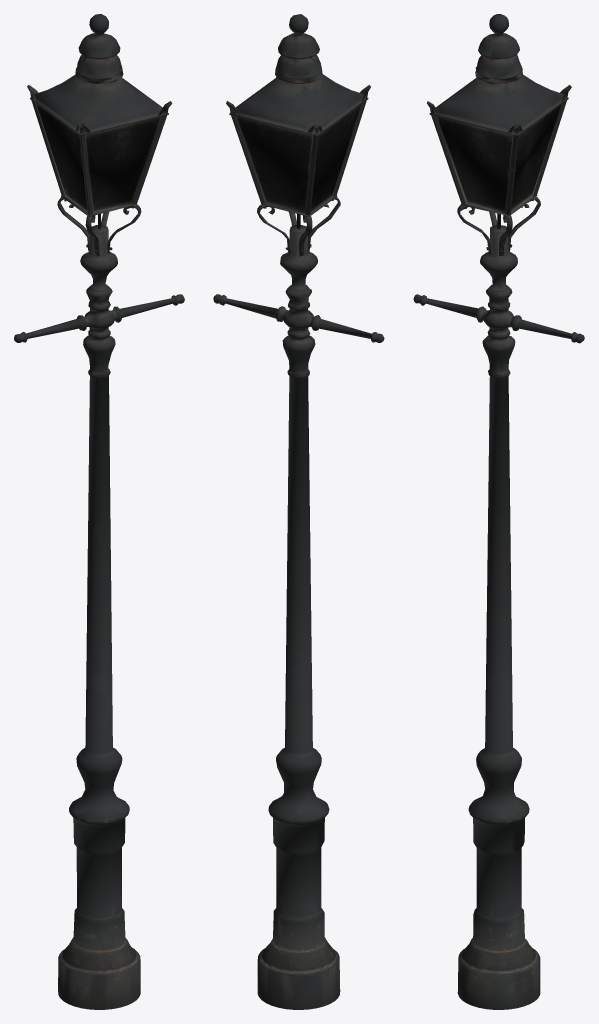
The model's file is street_lamp_01_1k_lo.glb.
3 renders of one model, left to right at view 1: azimuth 30°, elevation 25°; view 2: azimuth 150°, elevation 25°; view 3: azimuth 330°, elevation 25°, orthographic.
Parts seen in each view (by area): view 1: street_lamp_01; view 2: street_lamp_01; view 3: street_lamp_01.
Boxes of the visible parts, x1=… form: street_lamp_01: x1=14, y1=14, x2=184, y2=1009; street_lamp_01: x1=213, y1=14, x2=384, y2=1009; street_lamp_01: x1=413, y1=14, x2=584, y2=1009.
Bounding box in the file's own units: 0.7031 × 3.87 × 0.3857.
2 materials, 2 textured.
